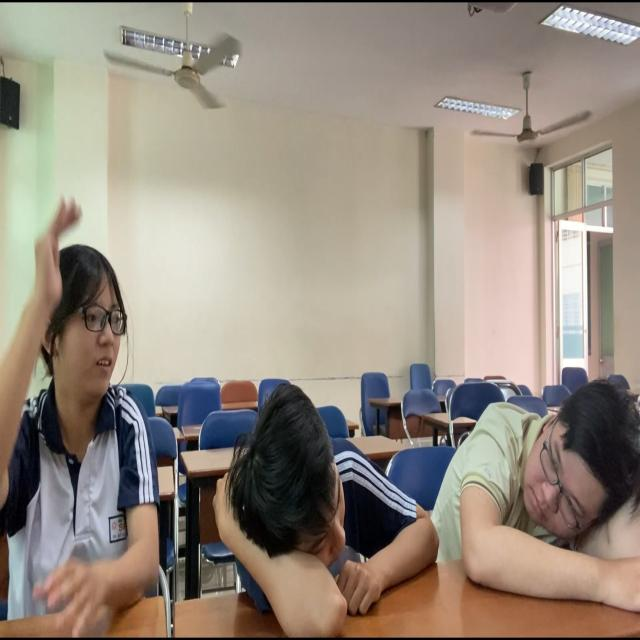raise_hand: (1, 198, 162, 640)
sleep: (214, 384, 416, 640), (439, 377, 640, 623)
